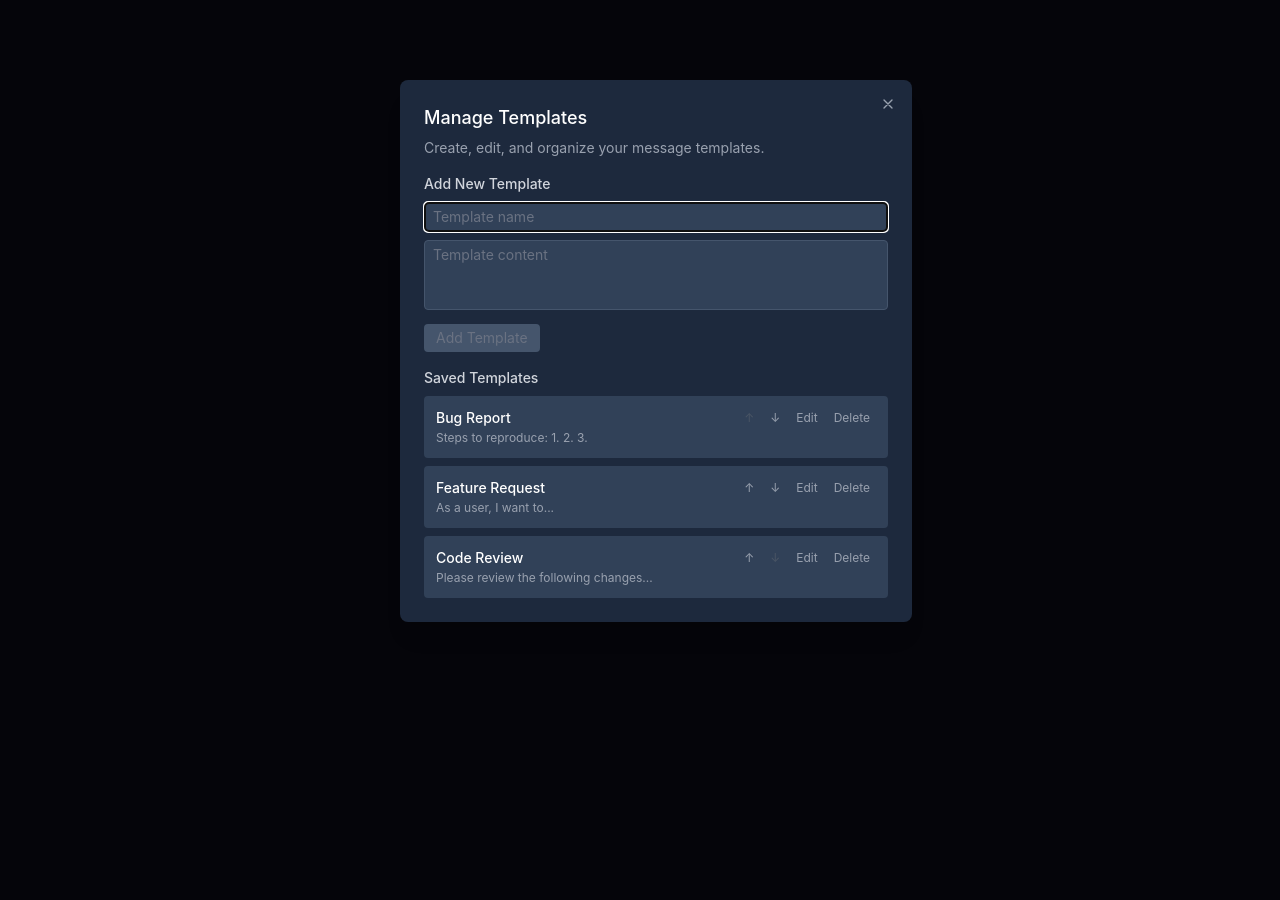
Scenario: TemplateManager › cancels editing
This screenshot has width=1280, height=900.
Click the button "Edit" in the row of "Bug Report" at (807,418), box [790, 408, 824, 428]
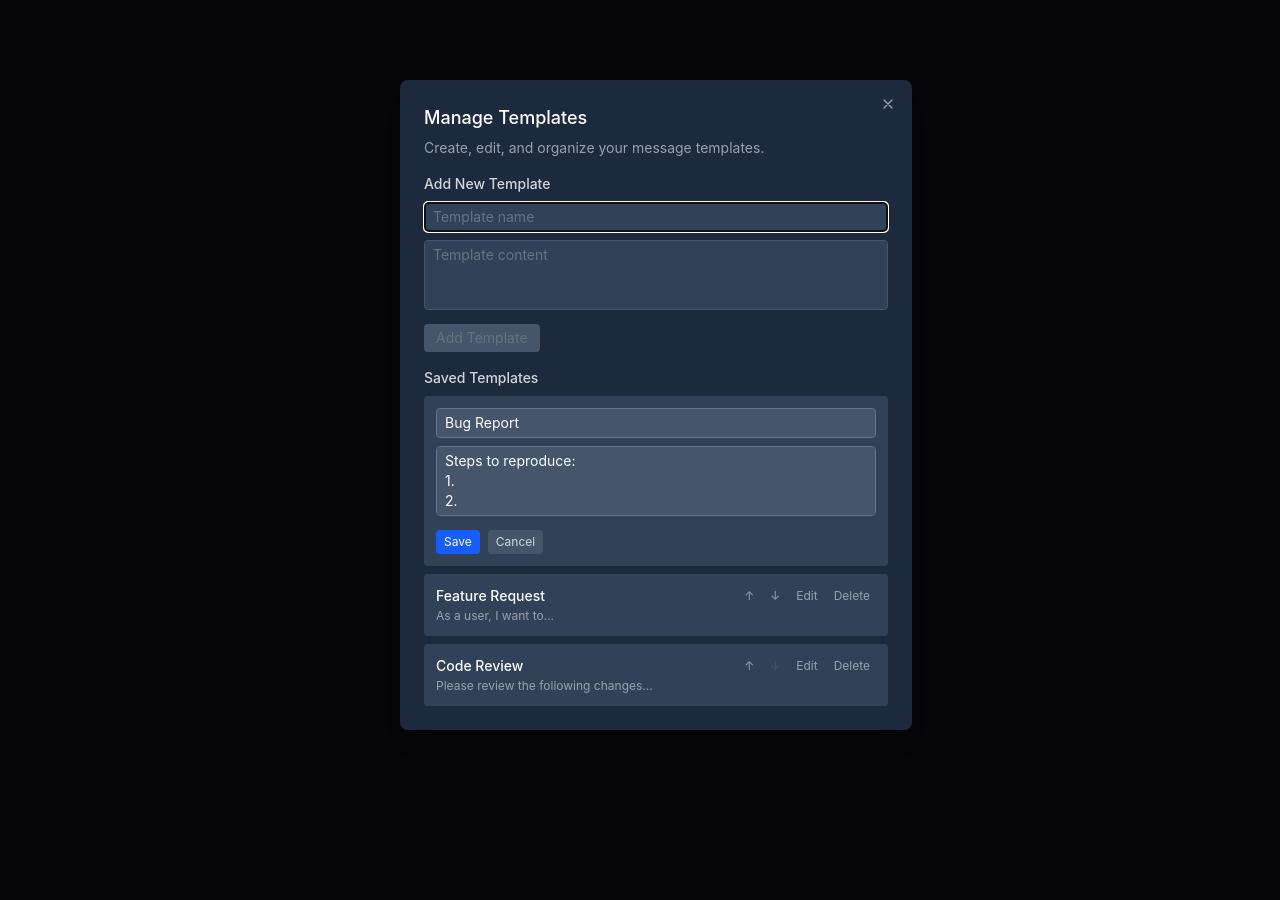
Click the button "Cancel" at (516,542), box [488, 530, 543, 554]
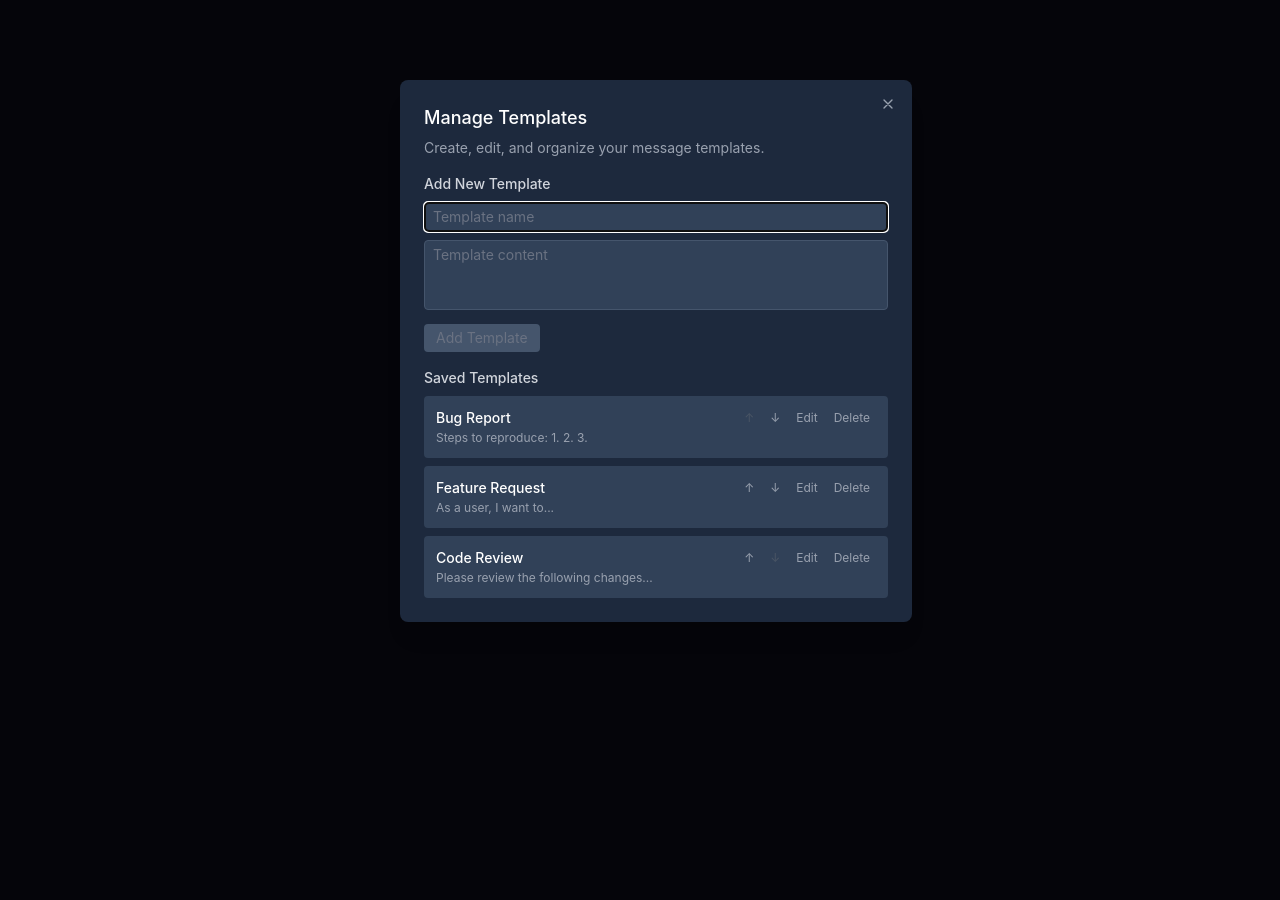
Expected: the text "Bug Report" is shown, [436, 409, 511, 426]
